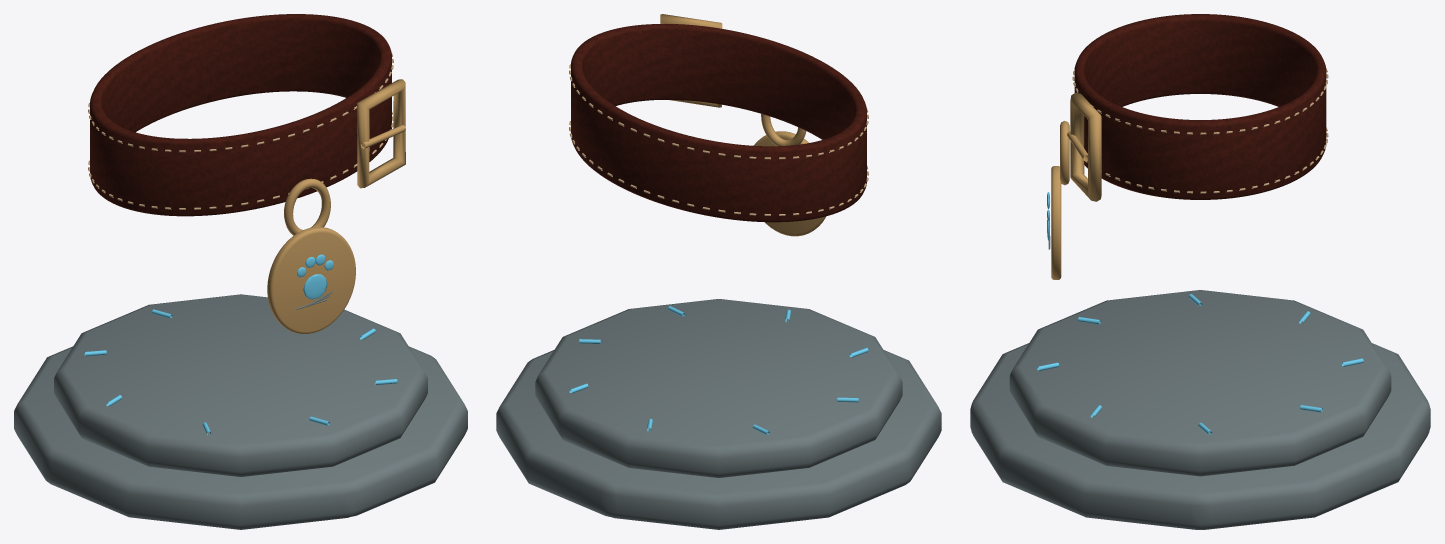
Rendered from MemoryCollar.fbx.
3 renders of one model, left to right at view 1: azimuth 30°, elevation 25°; view 2: azimuth 150°, elevation 25°; view 3: azimuth 270°, elevation 25°, orthographic. The views are drawn at different scales.
Parts seen in each view (by area): view 1: Ground_Memory_Stone, Collar_Memory_Leather, Collar_Memory_Brass, Collar_Memory_Thread, Collar_Memory_Glow, Ground_Memory_Glow; view 2: Ground_Memory_Stone, Collar_Memory_Leather, Collar_Memory_Brass, Collar_Memory_Thread, Ground_Memory_Glow; view 3: Ground_Memory_Stone, Collar_Memory_Leather, Collar_Memory_Brass, Collar_Memory_Thread, Ground_Memory_Glow.
Boxes of the visible parts, x1,y1,x2,y2 form: Ground_Memory_Stone: [14, 294, 467, 529]; Collar_Memory_Leather: [90, 14, 391, 216]; Collar_Memory_Brass: [267, 79, 405, 333]; Collar_Memory_Thread: [88, 53, 393, 209]; Collar_Memory_Glow: [297, 254, 333, 299]; Ground_Memory_Glow: [84, 309, 397, 435]; Ground_Memory_Stone: [496, 299, 941, 529]; Collar_Memory_Leather: [571, 24, 866, 222]; Collar_Memory_Brass: [660, 14, 825, 236]; Collar_Memory_Thread: [569, 64, 868, 215]; Ground_Memory_Glow: [569, 306, 868, 434]; Ground_Memory_Stone: [970, 290, 1430, 529]; Collar_Memory_Leather: [1074, 14, 1326, 199]; Collar_Memory_Brass: [1051, 92, 1101, 279]; Collar_Memory_Thread: [1072, 67, 1328, 193]; Ground_Memory_Glow: [1037, 294, 1363, 434].
Bounding box in the file's own units: 113 × 104 × 113.
5 materials, 1 textured.
